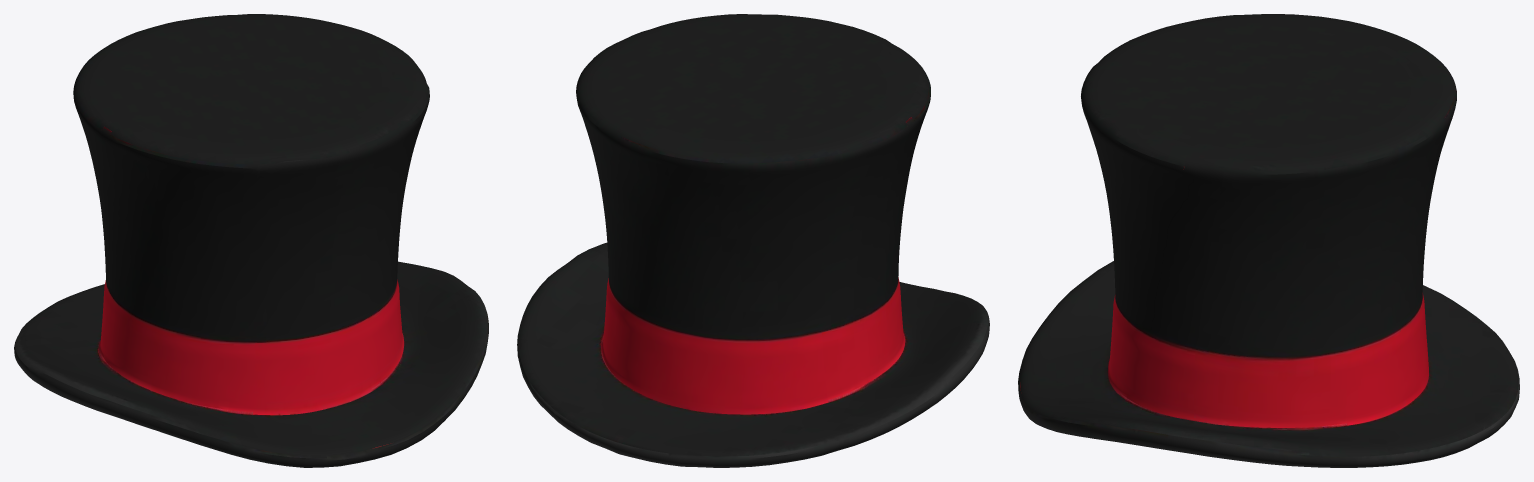
Rendered from hat_top.glb.
3 views of the same model, side by side, from view 1: azimuth 30°, elevation 25°; view 2: azimuth 150°, elevation 25°; view 3: azimuth 270°, elevation 25° (orthographic). The views are drawn at different scales.
Bounding box in the file's own units: 1.9 × 1.3 × 1.9.
1 material, 1 textured.
